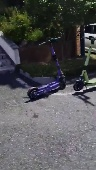beam: (25, 36, 69, 101)
gcooter: (72, 35, 96, 91)
